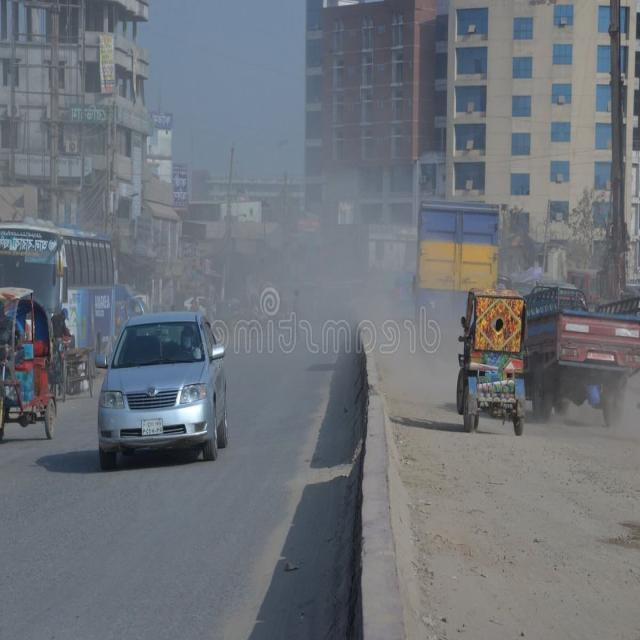Auto-Rickshaw: (436, 259, 539, 452), (1, 277, 81, 457)
Bus: (1, 207, 146, 392)
Car: (90, 299, 241, 478)
Truck: (397, 187, 515, 392), (499, 264, 640, 431)
